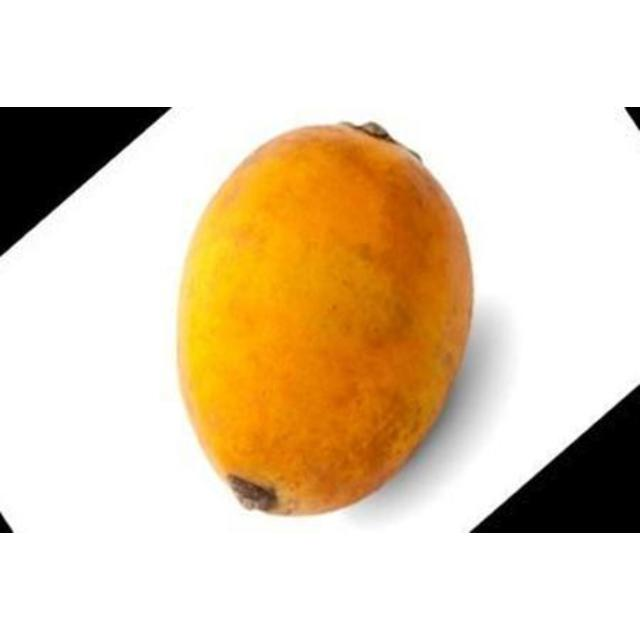good: (175, 123, 476, 518)
